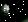person: (4, 5, 11, 15)
